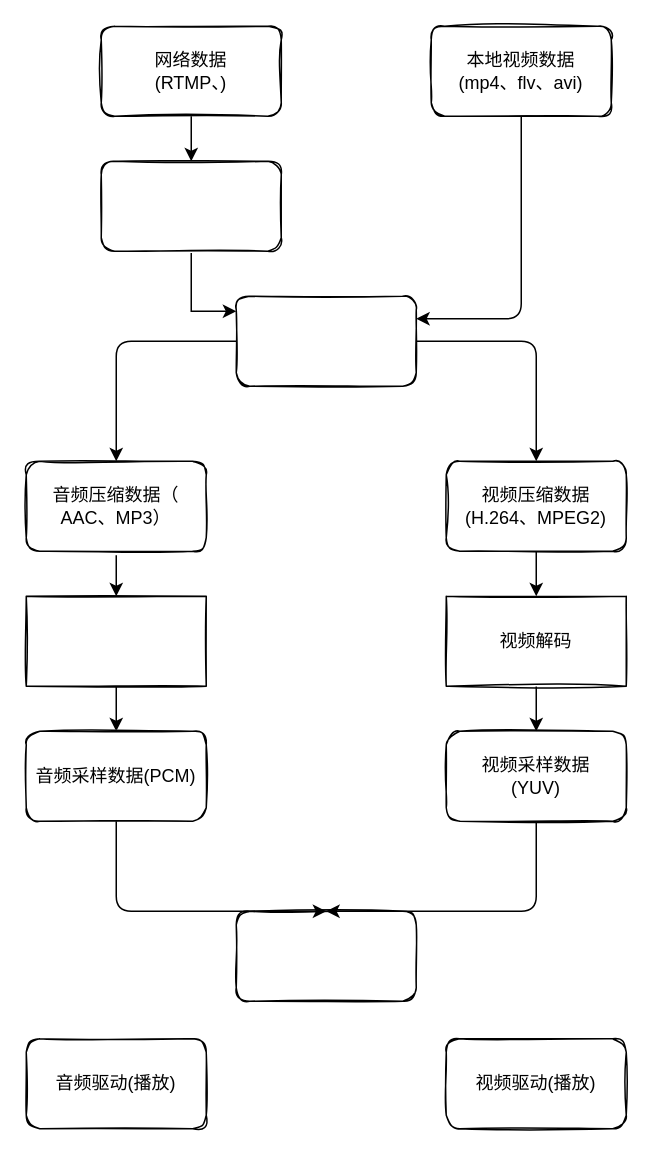
Image size: 653x1155. Some labels were removed from this diagram. Here are the shapes that lost their labels. From the top down, the centre of each, then its label:
At [190,205]: "解协议".
At [325,340]: "解封装".
At [115,640]: "音频解码".
At [325,955]: "音视频同步".
